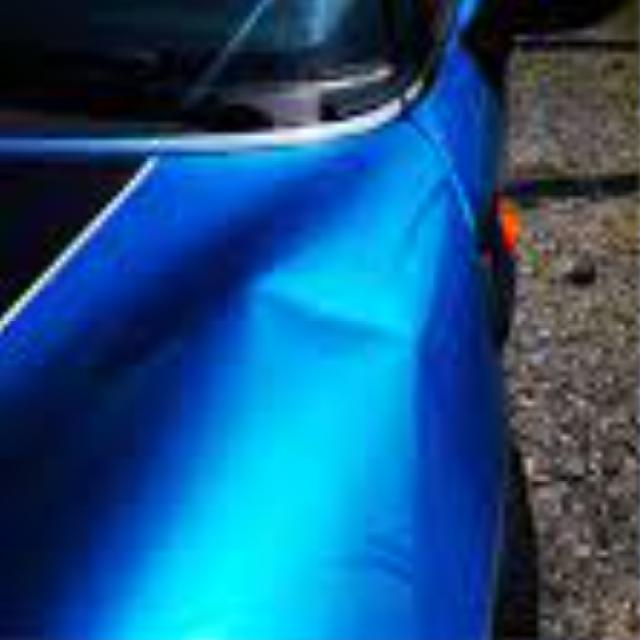dents: (250, 256, 461, 434)
